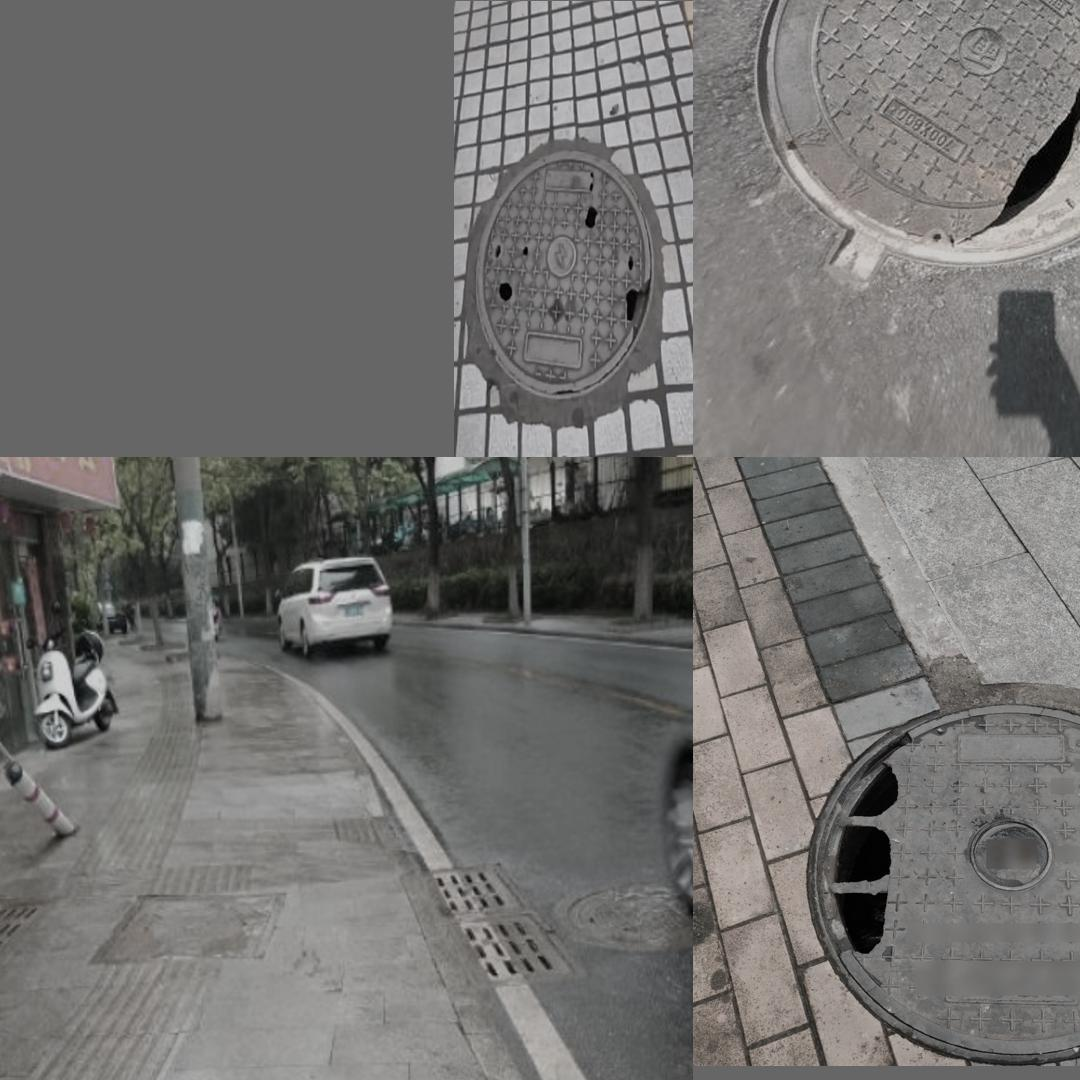broke: (744, 0, 1080, 282), (818, 727, 1080, 1052), (474, 155, 652, 400)
